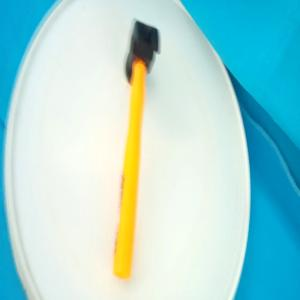martelo: (113, 18, 161, 282)
